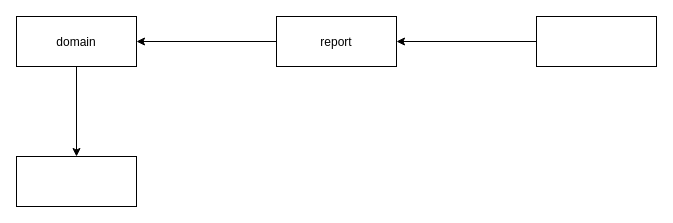
This 673x223 diagram has some shape labels left out. Here are the shapes that lost their labels. From the top down, the centre of each, then its label:
point 596,41: ui
point 76,181: infra
